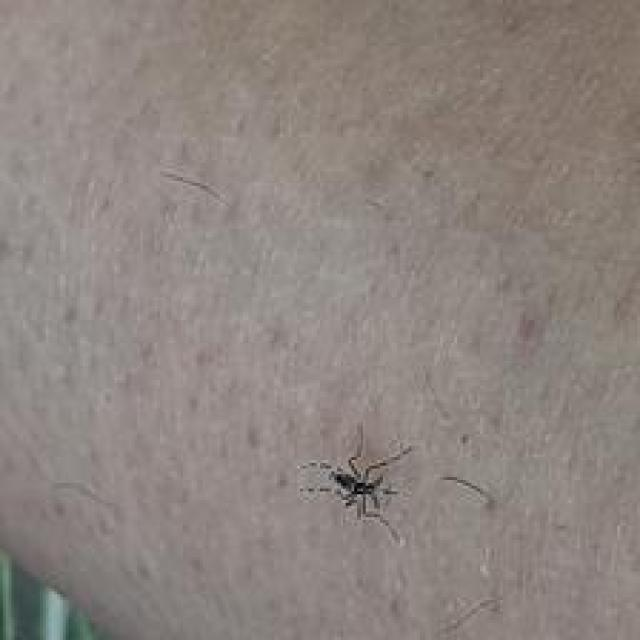Aedes albopictus: (298, 422, 413, 544)
